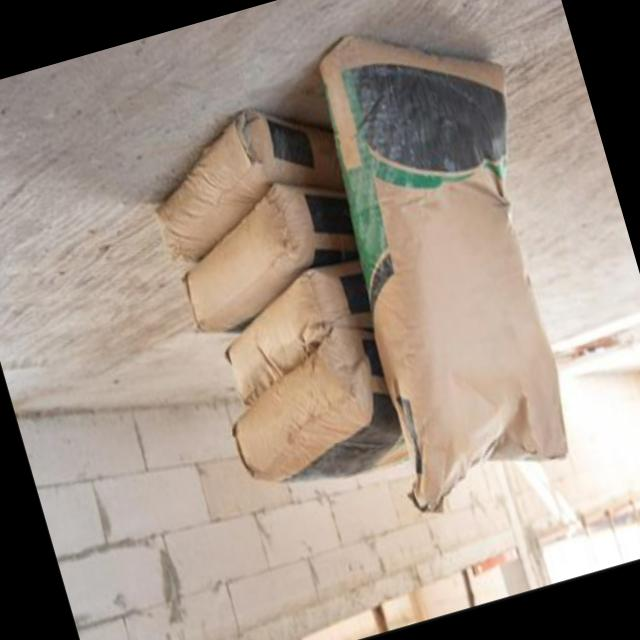KantongSemen: (279, 0, 617, 523), (215, 318, 422, 516), (166, 172, 377, 344)
